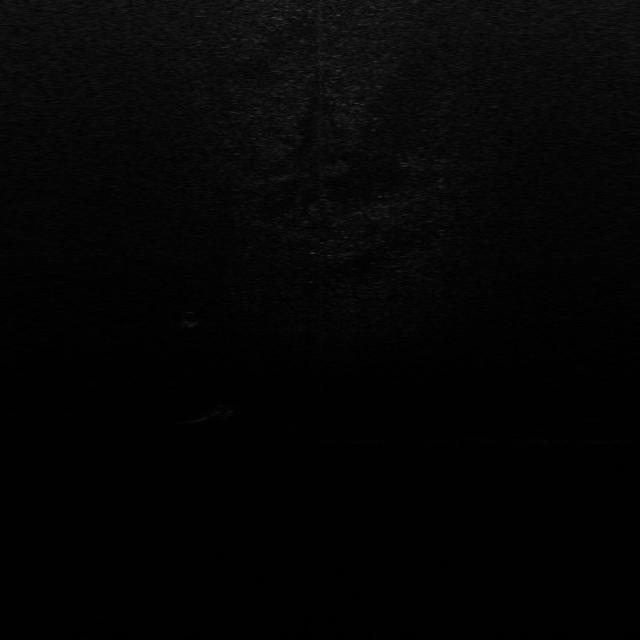ball: (206, 398, 238, 419)
circle cage: (182, 309, 204, 325)
